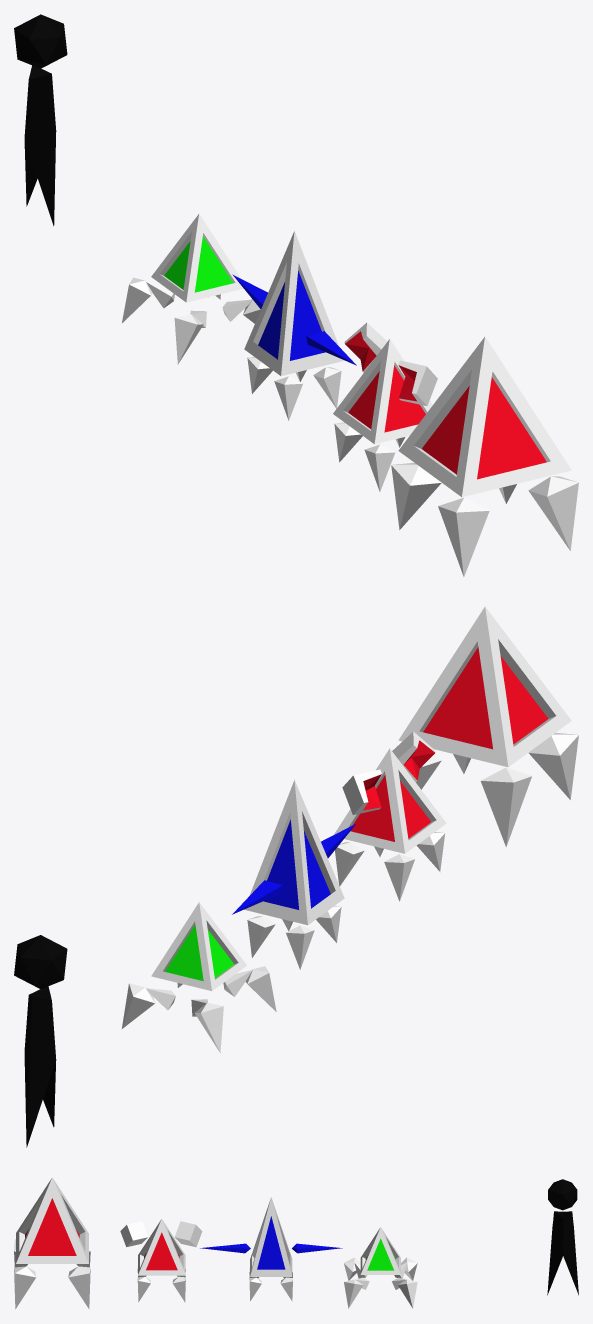
The model's file is Inimigos.fbx.
3 views of the same model, one above another, from view 1: azimuth 30°, elevation 25°; view 2: azimuth 150°, elevation 25°; view 3: azimuth 270°, elevation 25° (orthographic). The views are drawn at different scales.
Parts seen in each view (by area): view 1: InimigoGenerico, InimigoAzul, InimigoVermelho, InimigoVerde, Player, InimigoEspada; view 2: InimigoGenerico, InimigoVermelho, InimigoAzul, InimigoVerde, Player, InimigoEspada; view 3: InimigoGenerico, InimigoVermelho, InimigoVerde, InimigoAzul, Player, InimigoEspada.
Part boxes in pixels (x1,y1,x2,y2): InimigoGenerico: (391, 336, 578, 576); InimigoAzul: (244, 231, 344, 420); InimigoVermelho: (333, 322, 437, 491); InimigoVerde: (122, 213, 260, 364); Player: (14, 14, 67, 226); InimigoEspada: (232, 274, 356, 365); InimigoGenerico: (398, 606, 578, 846); InimigoVermelho: (334, 731, 446, 901); InimigoAzul: (244, 780, 344, 969); InimigoVerde: (122, 902, 276, 1053); Player: (14, 935, 67, 1147); InimigoEspada: (232, 824, 355, 914); InimigoGenerico: (14, 1177, 90, 1309); InimigoVermelho: (120, 1219, 202, 1302); InimigoVerde: (344, 1227, 417, 1308); InimigoAzul: (249, 1197, 292, 1301); Player: (547, 1179, 578, 1295); InimigoEspada: (200, 1243, 342, 1253).
Size of the model in its own units: 223 by 359 by 1548.
